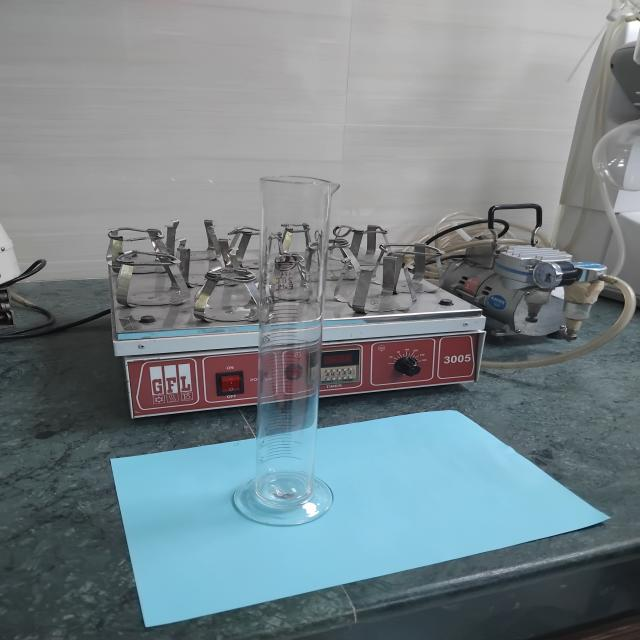Measuring_Cylinder: (209, 144, 385, 546)
